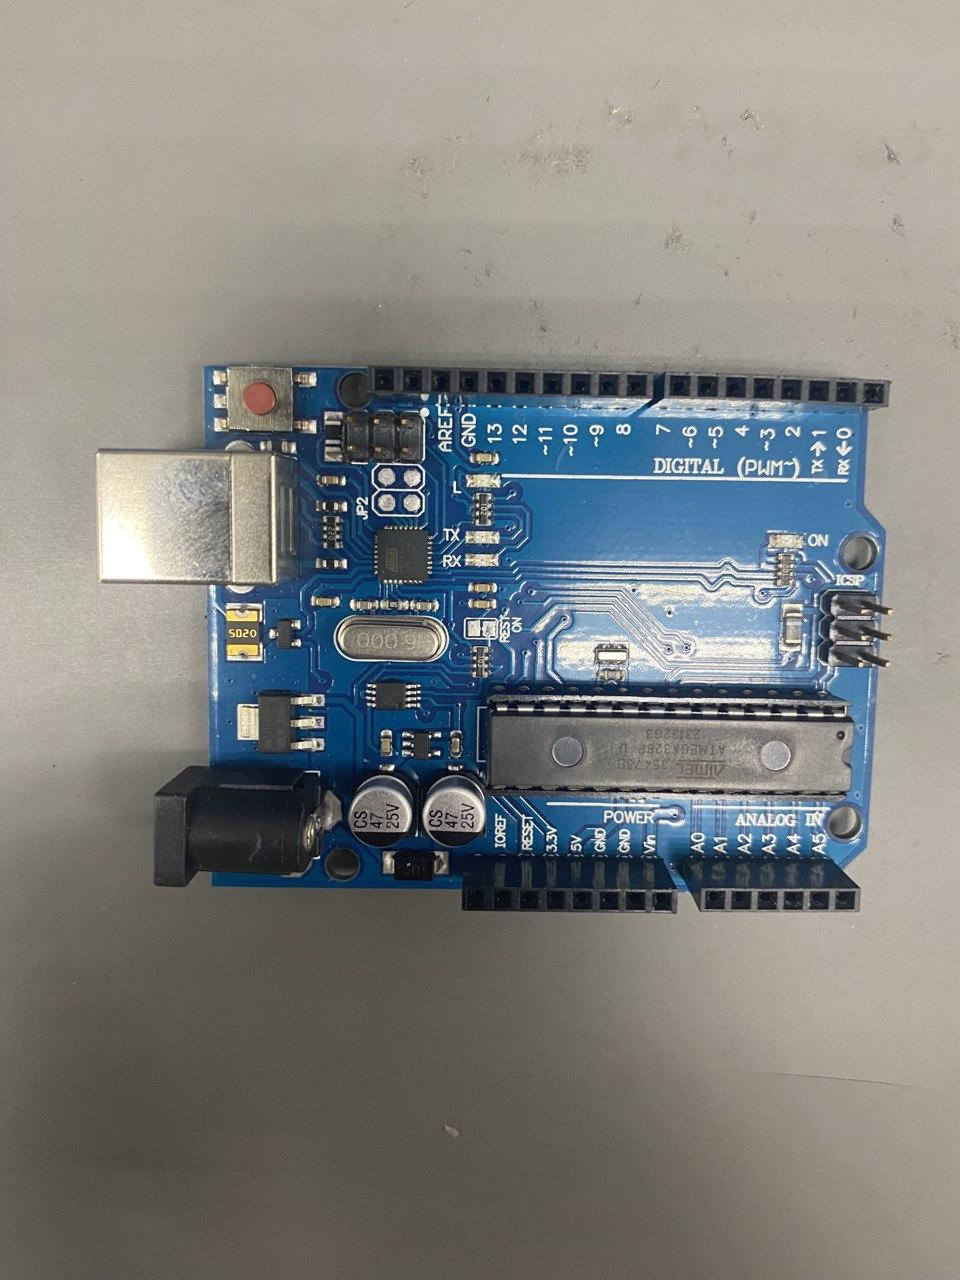ATmega328 chip: (485, 684, 854, 802)
Arduino board: (96, 364, 894, 914)
USB: (96, 449, 298, 585)
capacitor: (347, 772, 417, 849), (421, 770, 487, 846)
pins: (367, 364, 654, 410), (462, 857, 678, 914), (648, 370, 890, 413), (678, 857, 861, 912)
resistor: (776, 553, 795, 587), (323, 516, 340, 549), (474, 492, 491, 525), (472, 646, 489, 678)
